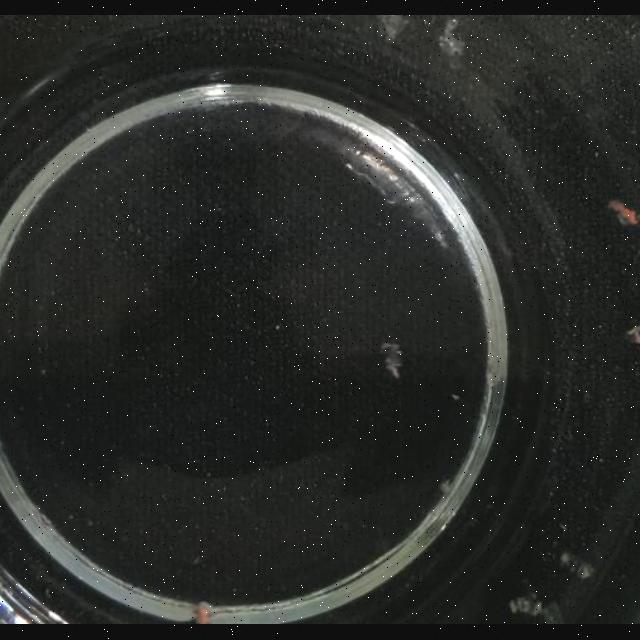Fibre: (508, 587, 560, 625), (558, 550, 594, 590), (377, 342, 413, 378)
Fragment: (190, 600, 256, 624), (603, 198, 640, 235), (624, 326, 640, 348)
